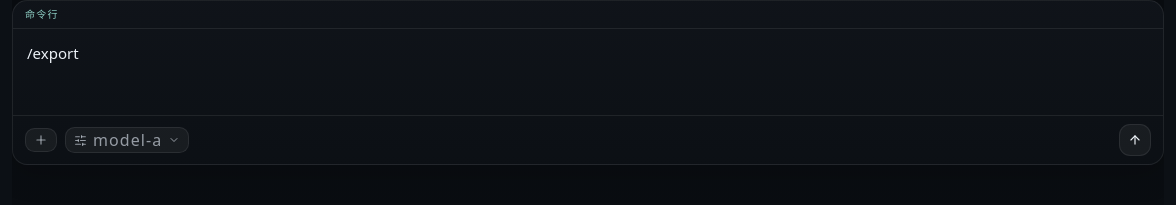
Test: MessageComposer trigger menu › reports a command without executor instead of silently sending it
Click the button named "发送回合". click: (1135, 140)
box: left=1119, top=124, right=1151, bottom=156
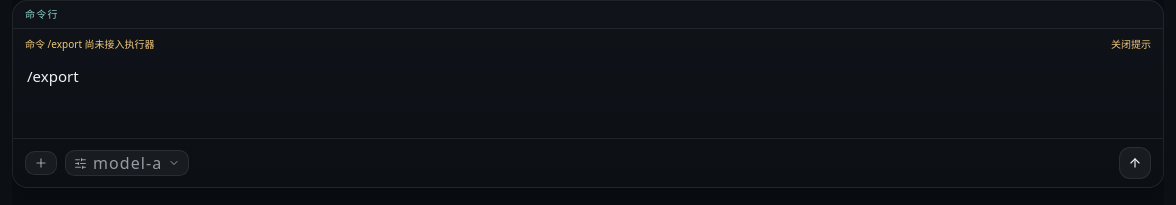
Now the message "命令 /export 尚未接入执行器 关闭提示" is shown, box left=13, top=29, right=1163, bottom=52
